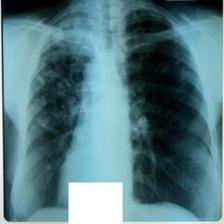tuberculosis: (2, 1, 223, 220)
